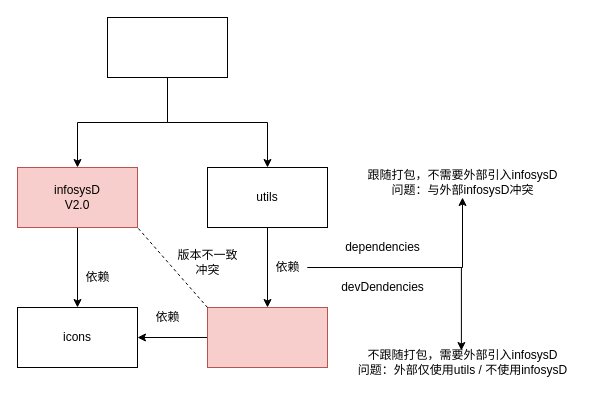
The diagram is 590 pixels wide and 395 high, and some of its shapes have lost their labels. The centre of each missing label's shape, as x and y in pixels:
"infosysD V1.0" goes at (x=267, y=337).
"个人项目" goes at (x=167, y=47).
